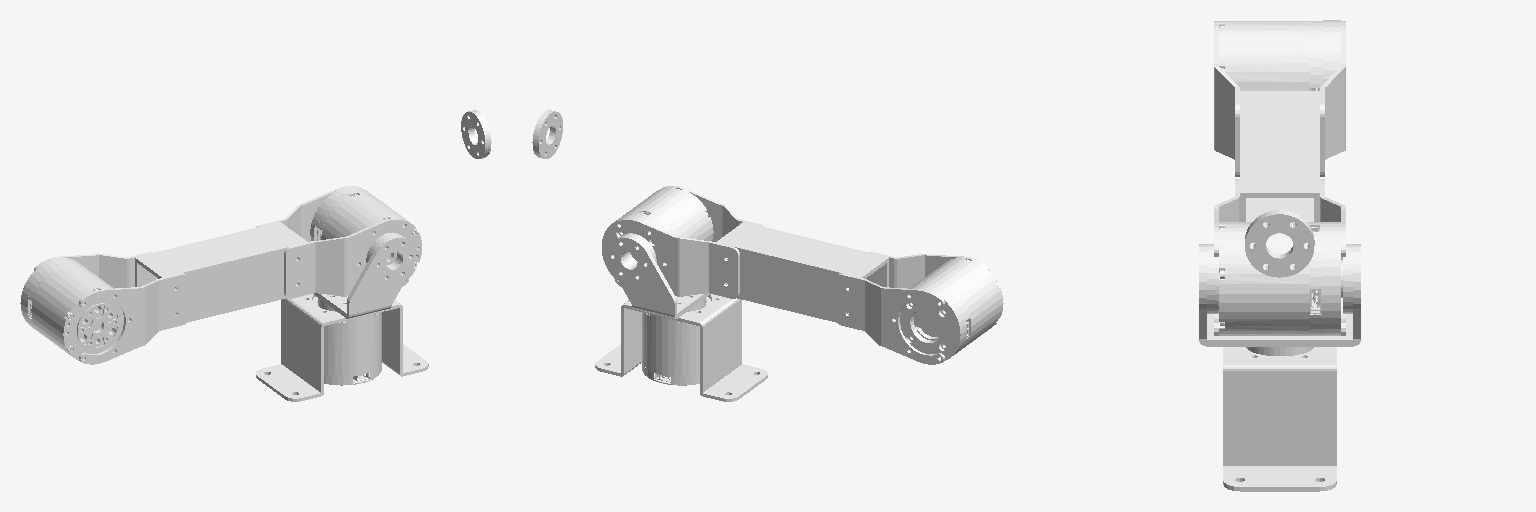
The robot description file, URDF, robot "openmmarm":
<?xml version="1.0" encoding="utf-8"?>
<!-- This URDF was automatically created by SolidWorks to URDF Exporter! Originally created by [author] ([email redacted]) 
     Commit Version: 1.6.0-4-g7f85cfe  Build Version: 1.6.7995.38578
     For more information, please see http://wiki.ros.org/sw_urdf_exporter -->
<robot
  name="openmmarm">
  <link name="world"/>
  <joint name="world_joint" type="fixed">
    <parent link="world"/>
    <child link="base_link"/>
    <origin xyz="0 0 0" rpy="0 0 0"/>
  </joint>
  <link
    name="base_link">
    <inertial>
      <origin
        xyz="8.09915022552065E-05 -1.20623919045026E-08 -0.030118633020856"
        rpy="0 0 0" />
      <mass
        value="0.142381483362801" />
      <inertia
        ixx="6.14941902711178E-05"
        ixy="1.85834336563704E-08"
        ixz="1.69303017472949E-08"
        iyy="8.71179432025898E-05"
        iyz="-6.21645929776464E-12"
        izz="8.86745548359769E-05" />
    </inertial>
    <visual>
      <origin
        xyz="0 0 0"
        rpy="0 0 0" />
      <geometry>
        <mesh
          filename="package://openmmarm_description/meshes/base_link.STL" />
      </geometry>
      <material
        name="">
        <color
          rgba="1 1 1 1" />
      </material>
    </visual>
    <collision>
      <origin
        xyz="0 0 0"
        rpy="0 0 0" />
      <geometry>
        <mesh
          filename="package://openmmarm_description/meshes/base_link.STL" />
      </geometry>
    </collision>
  </link>
  <link
    name="link1">
    <inertial>
      <origin
        xyz="0.00833611378384113 0.000345511562131883 0.0187961880262469"
        rpy="0 0 0" />
      <mass
        value="0.036286876852508" />
      <inertia
        ixx="3.35574952089329E-05"
        ixy="6.09403116411057E-19"
        ixz="-2.78919961969183E-06"
        iyy="1.2207181857991E-05"
        iyz="-7.73829152760122E-20"
        izz="3.18191610212386E-05" />
    </inertial>
    <visual>
      <origin
        xyz="0 0 0"
        rpy="0 0 0" />
      <geometry>
        <mesh
          filename="package://openmmarm_description/meshes/link1.STL" />
      </geometry>
      <material
        name="">
        <color
          rgba="1 1 1 1" />
      </material>
    </visual>
    <collision>
      <origin
        xyz="0 0 0"
        rpy="0 0 0" />
      <geometry>
        <mesh
          filename="package://openmmarm_description/meshes/link1.STL" />
      </geometry>
    </collision>
  </link>
  <joint
    name="J1"
    type="continuous">
    <origin
      xyz="0 0 0"
      rpy="0 0 0" />
    <parent
      link="base_link" />
    <child
      link="link1" />
    <axis
      xyz="0 0 1" />
  </joint>
  <link
    name="link2">
    <inertial>
      <origin
        xyz="-3.30291349825984E-15 0.119403040194361 0.0390234775570836"
        rpy="0 0 0" />
      <mass
        value="0.347666847087741" />
      <inertia
        ixx="0.00018245396792744"
        ixy="3.71687458240633E-08"
        ixz="-7.46410358600523E-18"
        iyy="0.000122429431137728"
        iyz="-1.19152487991319E-17"
        izz="0.000210686719084012" />
    </inertial>
    <visual>
      <origin
        xyz="0 0 0"
        rpy="0 0 0" />
      <geometry>
        <mesh
          filename="package://openmmarm_description/meshes/link2.STL" />
      </geometry>
      <material
        name="">
        <color
          rgba="1 1 1 1" />
      </material>
    </visual>
    <collision>
      <origin
        xyz="0 0 0"
        rpy="0 0 0" />
      <geometry>
        <mesh
          filename="package://openmmarm_description/meshes/link2.STL" />
      </geometry>
    </collision>
  </link>
  <joint
    name="J2"
    type="continuous">
    <origin
      xyz="0.0199999999999989 0.0366500000000007 0.0385"
      rpy="1.57079632679487 -1.5707963267949 0" />
    <parent
      link="link1" />
    <child
      link="link2" />
    <axis
      xyz="0 0 1" />
  </joint>
  <link
    name="link3">
    <inertial>
      <origin
        xyz="0.0559014525364826 -0.172833716840443 0.0365839561421469"
        rpy="0 0 0" />
      <mass
        value="0.188758706435604" />
      <inertia
        ixx="0.000139762233972135"
        ixy="9.14197115044133E-06"
        ixz="2.71964714868321E-08"
        iyy="8.1184147067388E-05"
        iyz="5.31902540633526E-10"
        izz="0.00013884603625925" />
    </inertial>
    <visual>
      <origin
        xyz="0 0 0"
        rpy="0 0 0" />
      <geometry>
        <mesh
          filename="package://openmmarm_description/meshes/link3.STL" />
      </geometry>
      <material
        name="">
        <color
          rgba="1 1 1 1" />
      </material>
    </visual>
    <collision>
      <origin
        xyz="0 0 0"
        rpy="0 0 0" />
      <geometry>
        <mesh
          filename="package://openmmarm_description/meshes/link3.STL" />
      </geometry>
    </collision>
  </link>
  <joint
    name="J3"
    type="continuous">
    <origin
      xyz="0 0.238806080405858 0"
      rpy="0 0 0" />
    <parent
      link="link2" />
    <child
      link="link3" />
    <axis
      xyz="0 0 1" />
  </joint>
  <link
    name="link4">
    <inertial>
      <origin
        xyz="6.73831473931264E-05 0.055624792786271 0.0313801437507282"
        rpy="0 0 0" />
      <mass
        value="0.11877187684737" />
      <inertia
        ixx="3.87336878288339E-05"
        ixy="3.33401577033842E-08"
        ixz="2.97140416520765E-08"
        iyy="4.91197302492646E-05"
        iyz="-1.95220028749838E-06"
        izz="3.92911426755369E-05" />
    </inertial>
    <visual>
      <origin
        xyz="0 0 0"
        rpy="0 0 0" />
      <geometry>
        <mesh
          filename="package://openmmarm_description/meshes/link4.STL" />
      </geometry>
      <material
        name="">
        <color
          rgba="1 1 1 1" />
      </material>
    </visual>
    <collision>
      <origin
        xyz="0 0 0"
        rpy="0 0 0" />
      <geometry>
        <mesh
          filename="package://openmmarm_description/meshes/link4.STL" />
      </geometry>
    </collision>
  </link>
  <joint
    name="J4"
    type="continuous">
    <origin
      xyz="0.0616968037972163 -0.254291383775743 0.0366494566851594"
      rpy="0 1.56644675228773 -1.5707963267831" />
    <parent
      link="link3" />
    <child
      link="link4" />
    <axis
      xyz="-0.00434956079241374 0 -0.999990540615717" />
  </joint>
  <link
    name="link5">
    <inertial>
      <origin
        xyz="6.90957312277756E-05 -0.0162029082727128 -0.0302226373686074"
        rpy="0 0 0" />
      <mass
        value="0.118771876898746" />
      <inertia
        ixx="3.8733913039163E-05"
        ixy="-4.18356868745696E-08"
        ixz="2.71031530457421E-08"
        iyy="4.879371829168E-05"
        iyz="-1.95310061424078E-06"
        izz="3.96169294190881E-05" />
    </inertial>
    <visual>
      <origin
        xyz="0 0 0"
        rpy="0 0 0" />
      <geometry>
        <mesh
          filename="package://openmmarm_description/meshes/link5.STL" />
      </geometry>
      <material
        name="">
        <color
          rgba="1 1 1 1" />
      </material>
    </visual>
    <collision>
      <origin
        xyz="0 0 0"
        rpy="0 0 0" />
      <geometry>
        <mesh
          filename="package://openmmarm_description/meshes/link5.STL" />
      </geometry>
    </collision>
  </link>
  <joint
    name="J5"
    type="continuous">
    <origin
      xyz="0.000147885066942065 0.0339999999999768 0.0339996783809576"
      rpy="-1.57079632679422 0 0" />
    <parent
      link="link4" />
    <child
      link="link5" />
    <axis
      xyz="0 0 1" />
    <limit
      lower="0"
      upper="0"
      effort="0"
      velocity="0" />
  </joint>
  <link
    name="link6">
    <inertial>
      <origin
        xyz="0 2.77555756156289E-17 -0.0025"
        rpy="0 0 0" />
      <mass
        value="0.00376849746761364" />
      <inertia
        ixx="3.41714056321192E-07"
        ixy="6.85232324605099E-24"
        ixz="8.27180612553028E-25"
        iyy="3.41714056321192E-07"
        iyz="7.70008600480521E-24"
        izz="6.6772603986066E-07" />
    </inertial>
    <visual>
      <origin
        xyz="0 0 0"
        rpy="0 0 0" />
      <geometry>
        <mesh
          filename="package://openmmarm_description/meshes/link6.STL" />
      </geometry>
      <material
        name="">
        <color
          rgba="1 1 1 1" />
      </material>
    </visual>
    <collision>
      <origin
        xyz="0 0 0"
        rpy="0 0 0" />
      <geometry>
        <mesh
          filename="package://openmmarm_description/meshes/link6.STL" />
      </geometry>
    </collision>
  </link>
  <joint
    name="J6"
    type="continuous">
    <origin
      xyz="0 -0.0435000000000013 -0.0340000000000001"
      rpy="1.5707963267949 0 0" />
    <parent
      link="link5" />
    <child
      link="link6" />
    <axis
      xyz="0 0 -1" />
  </joint>
</robot>

--- Facts derived from the render (not from the file) ---
The picture shows the robot from 3 angles, left to right: view 1: azimuth 30°, elevation 25°; view 2: azimuth 150°, elevation 25°; view 3: azimuth 270°, elevation 25°; orthographic projection.
Robot: openmmarm — 8 links, 7 joints (6 continuous, 1 fixed); root link world; default pose: all joints at 0.
Visible links, largest first — view 1: link2, base_link, link1, link6; view 2: link2, base_link, link1, link6; view 3: link2, base_link, link1, link6.
Boxes of the visible links, x1,y1,x2,y2 form: link2: [20, 186, 421, 364]; base_link: [256, 294, 428, 401]; link1: [314, 233, 415, 318]; link6: [461, 110, 491, 158]; link2: [602, 186, 1003, 364]; base_link: [595, 294, 767, 401]; link1: [608, 233, 710, 318]; link6: [532, 110, 562, 158]; link2: [1214, 20, 1345, 335]; base_link: [1223, 347, 1336, 491]; link1: [1199, 244, 1360, 355]; link6: [1245, 210, 1314, 277].
Size in the robot's own frame: 0.3604 by 0.0813 by 0.1785 metres.
Meshes: 7 distinct files referenced, 4 mesh visuals loaded (4 binary STL); not drawn: 3 (reference not matched to a file when rendering).